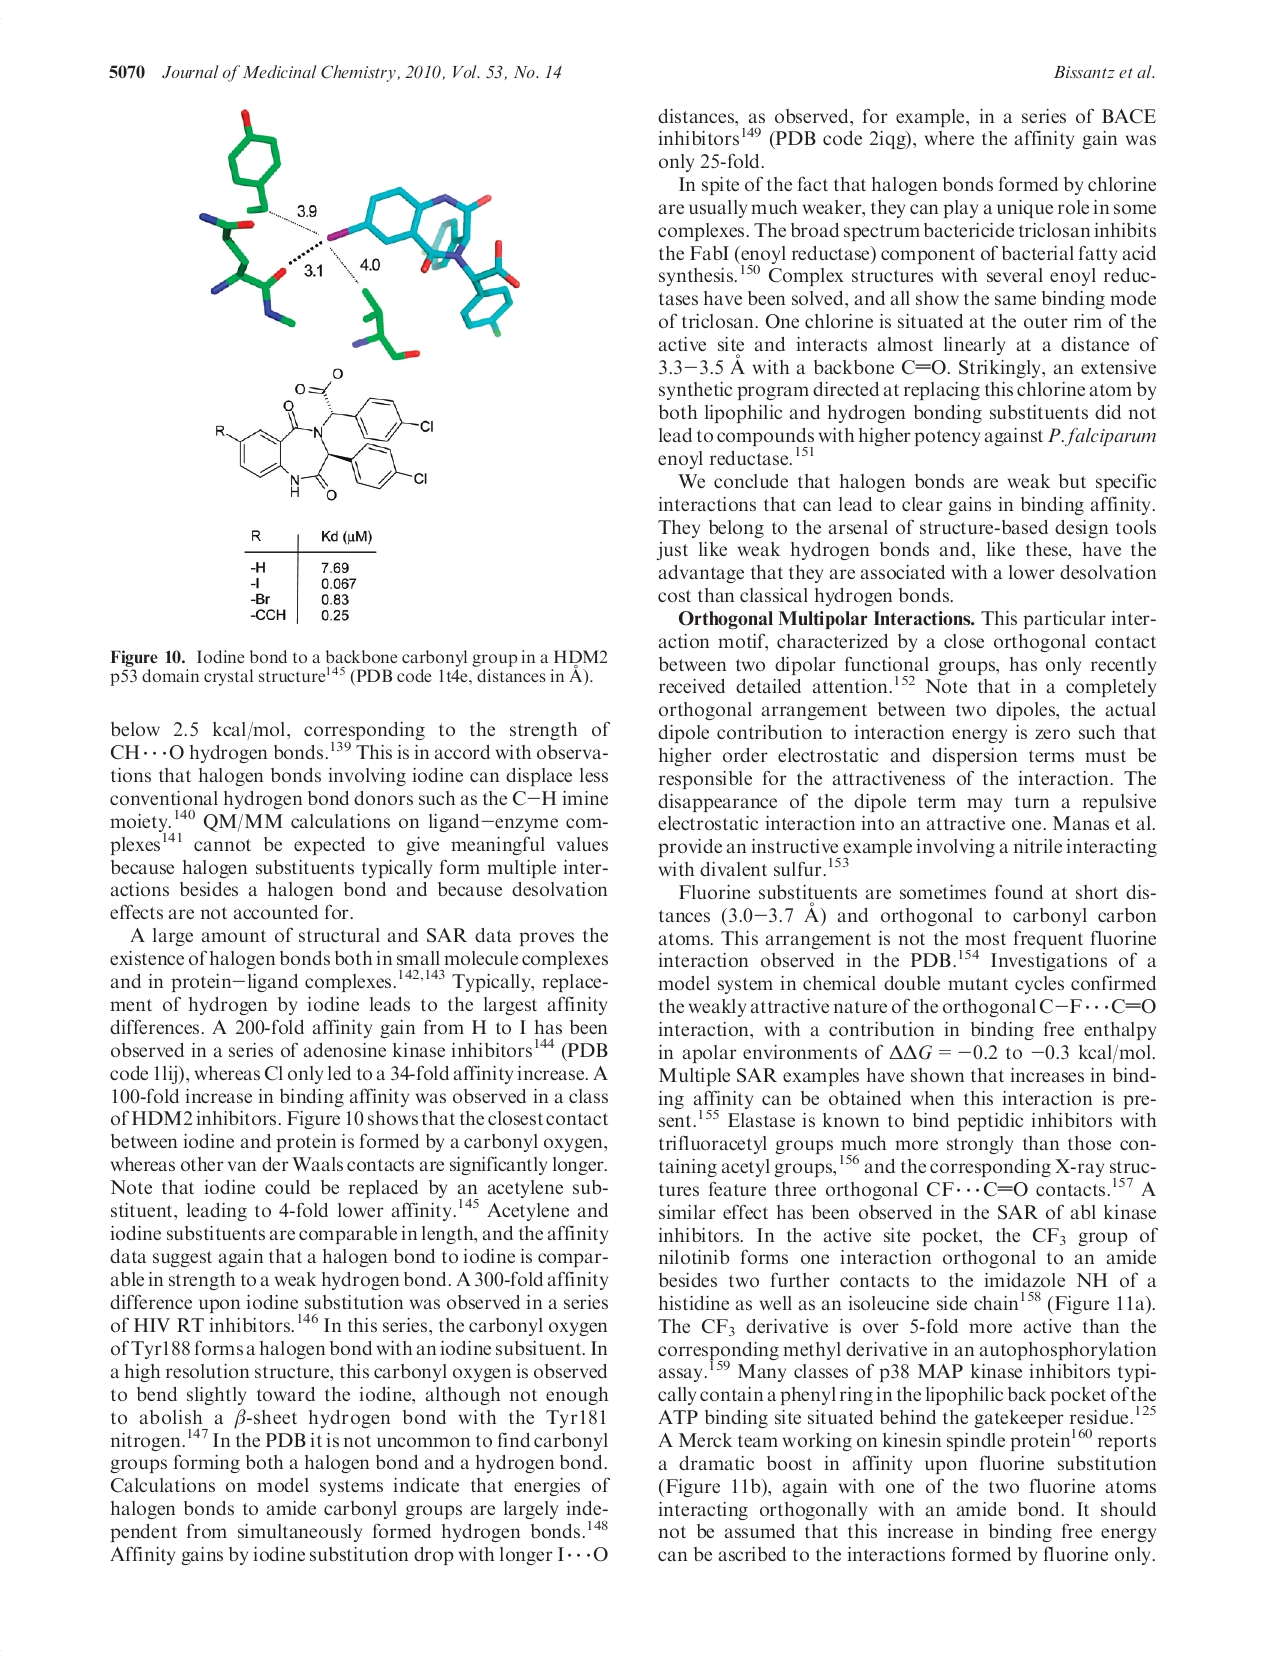exist_molecular: (206, 362, 440, 501)
